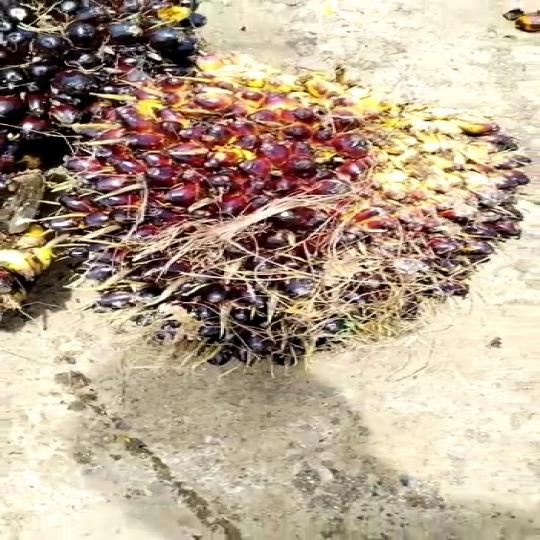mentah: (81, 70, 540, 383)
